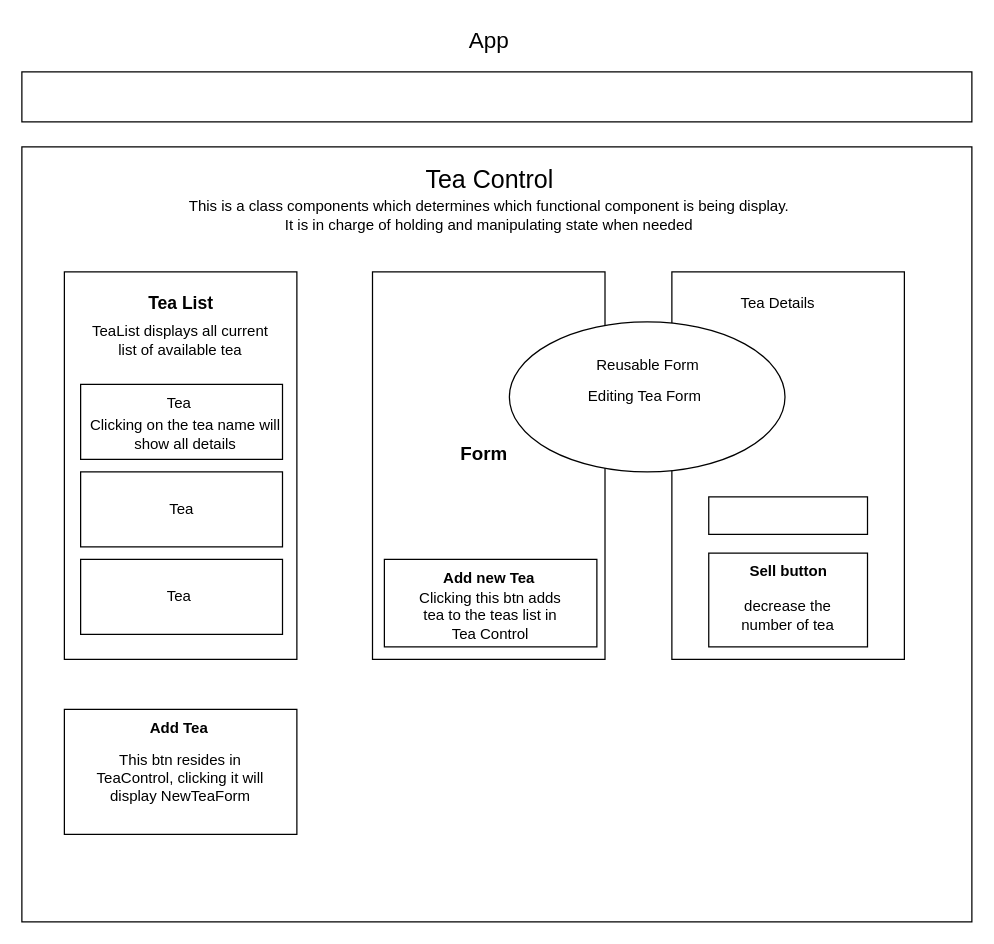
Image size: 994x944. Some labels were removed from this diagram. Each missing label, with the centre of its shape:
"Delete button" belongs at (x=788, y=515).
"Header" belongs at (x=496, y=96).
